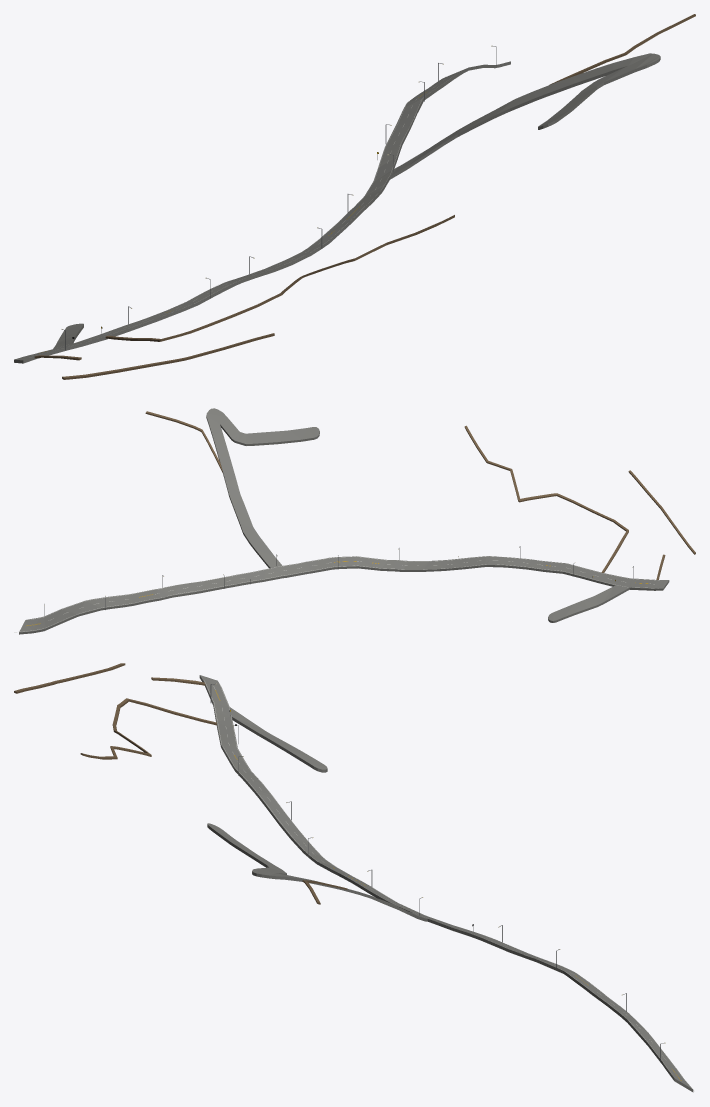
3 views of the same model, one above another, from view 1: azimuth 30°, elevation 25°; view 2: azimuth 150°, elevation 25°; view 3: azimuth 270°, elevation 25° (orthographic). The views are drawn at different scales.
Bounding box in the file's own units: 296 × 75.36 × 245.
